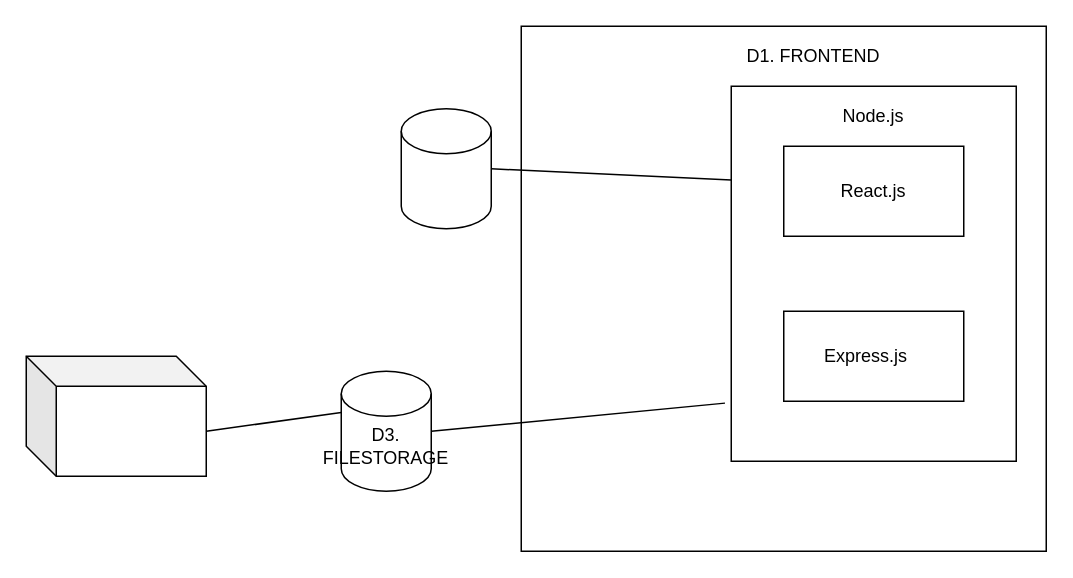
The diagram is 1073 pixels wide and 578 high, and some of its shapes have lost their labels. The shapes that lost their labels are listed below. From the top down, each one's box as (x1, y1, x2, y2) in pixels, then its label:
(400, 107, 491, 229): D4. DATABASE
(25, 355, 206, 476): D5. CORE
